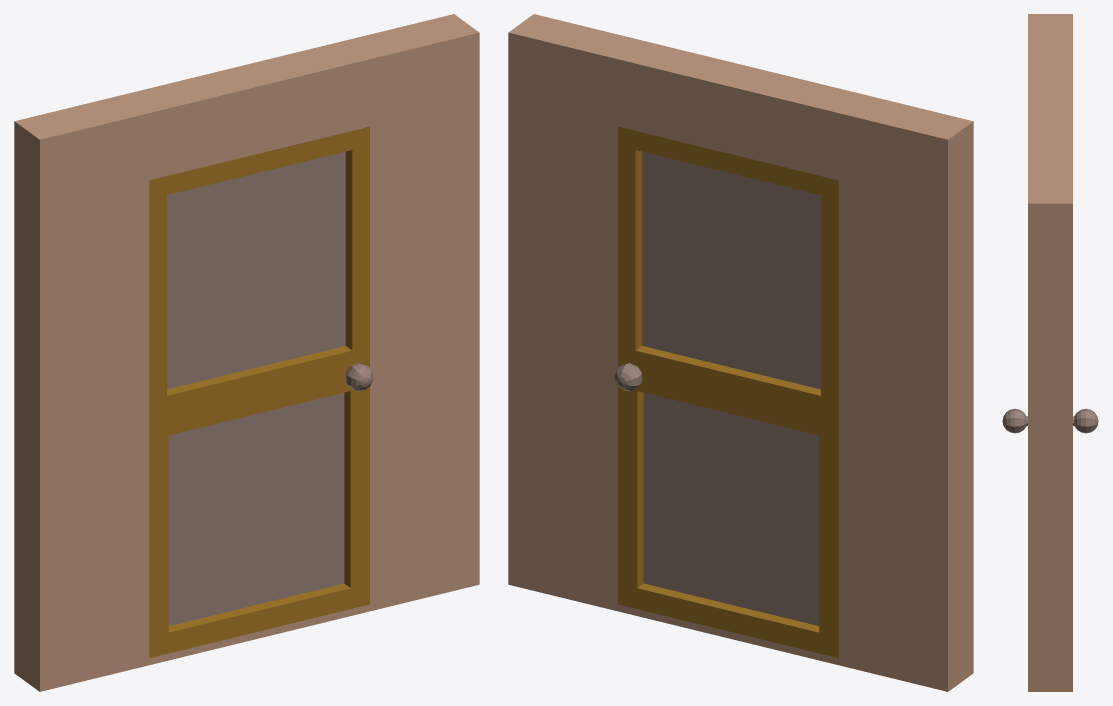
File: Wall_Door02.fbx
The picture shows the model from 3 angles, left to right: view 1: azimuth 30°, elevation 25°; view 2: azimuth 150°, elevation 25°; view 3: azimuth 270°, elevation 25°; orthographic projection. The views are drawn at different scales.
Parts seen in each view (by area): view 1: Wall, Door; view 2: Wall, Door; view 3: Wall, Door.
Part boxes in pixels (left/top/right/bottom): Wall: left=14, top=14, right=479, bottom=691; Door: left=149, top=126, right=373, bottom=657; Wall: left=508, top=14, right=973, bottom=691; Door: left=614, top=126, right=838, bottom=657; Wall: left=1028, top=14, right=1072, bottom=691; Door: left=1002, top=408, right=1098, bottom=433.
Bounding box in the file's own units: 2 × 2.4 × 0.428.
